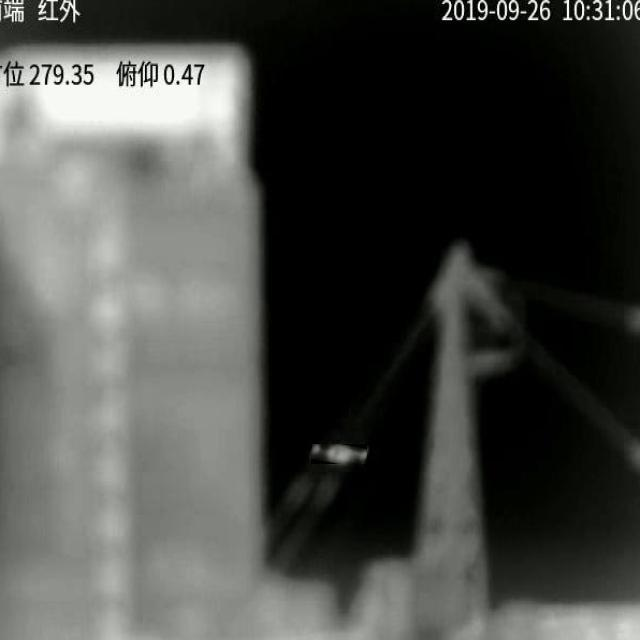drone: (311, 445, 367, 464)
